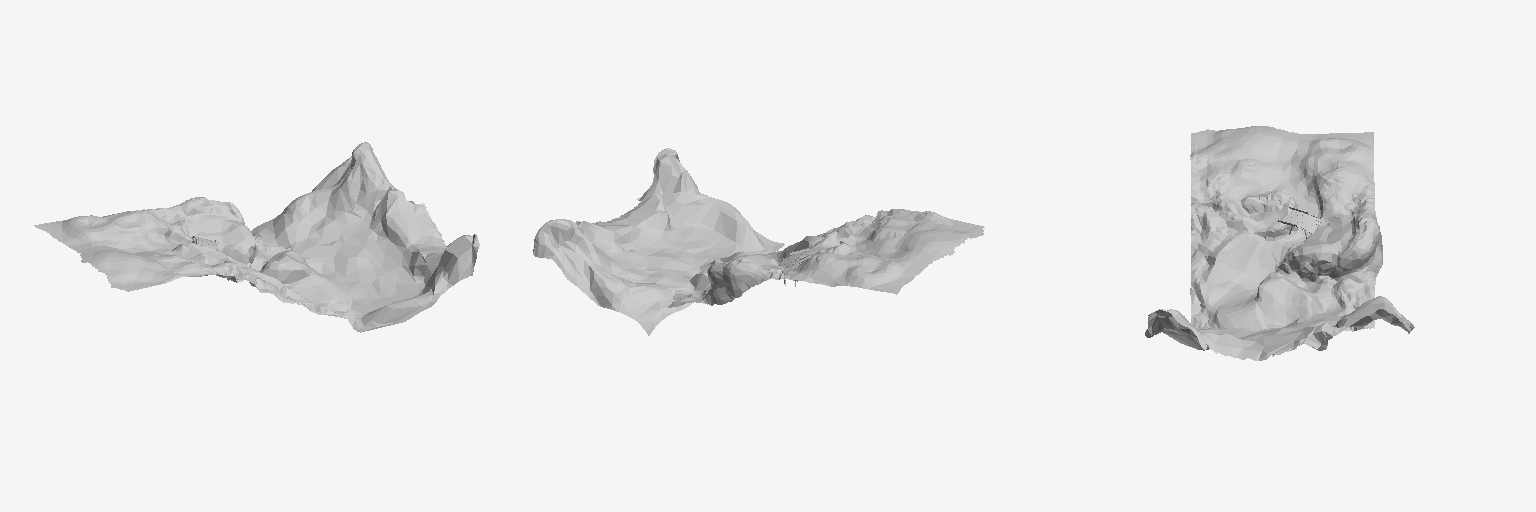
The model's file is mountainmorefaces.obj.
3 views of the same model, side by side, from view 1: azimuth 30°, elevation 25°; view 2: azimuth 150°, elevation 25°; view 3: azimuth 270°, elevation 25° (orthographic).
Visible parts, largest first — view 1: Landscape.005, Landscape; view 2: Landscape.005, Landscape; view 3: Landscape, Landscape.005, Cube_Cube.001.
Part boxes in pixels (x1,y1,x2,y2): Landscape.005: (251, 142, 479, 332); Landscape: (34, 197, 355, 318); Landscape.005: (533, 148, 784, 335); Landscape: (668, 209, 984, 307); Landscape: (1190, 126, 1382, 331); Landscape.005: (1145, 296, 1414, 360); Cube_Cube.001: (1278, 207, 1320, 233).
Size of the model in its own units: 6.79 by 1.66 by 4.41.